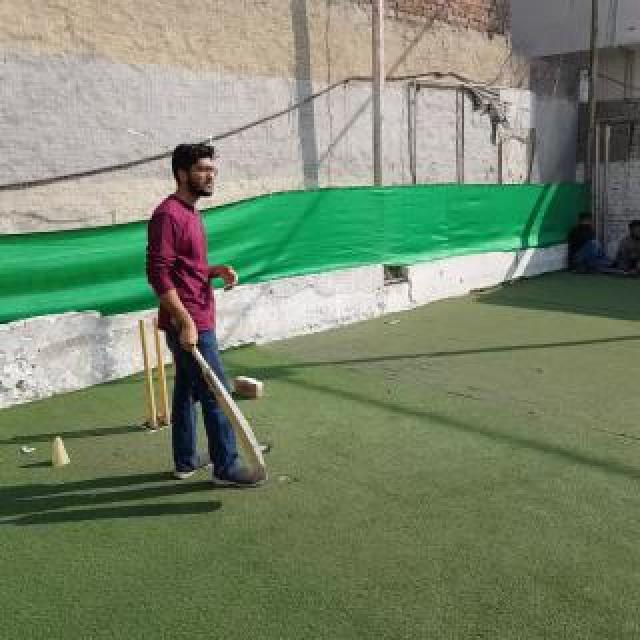bat: (170, 318, 266, 472)
